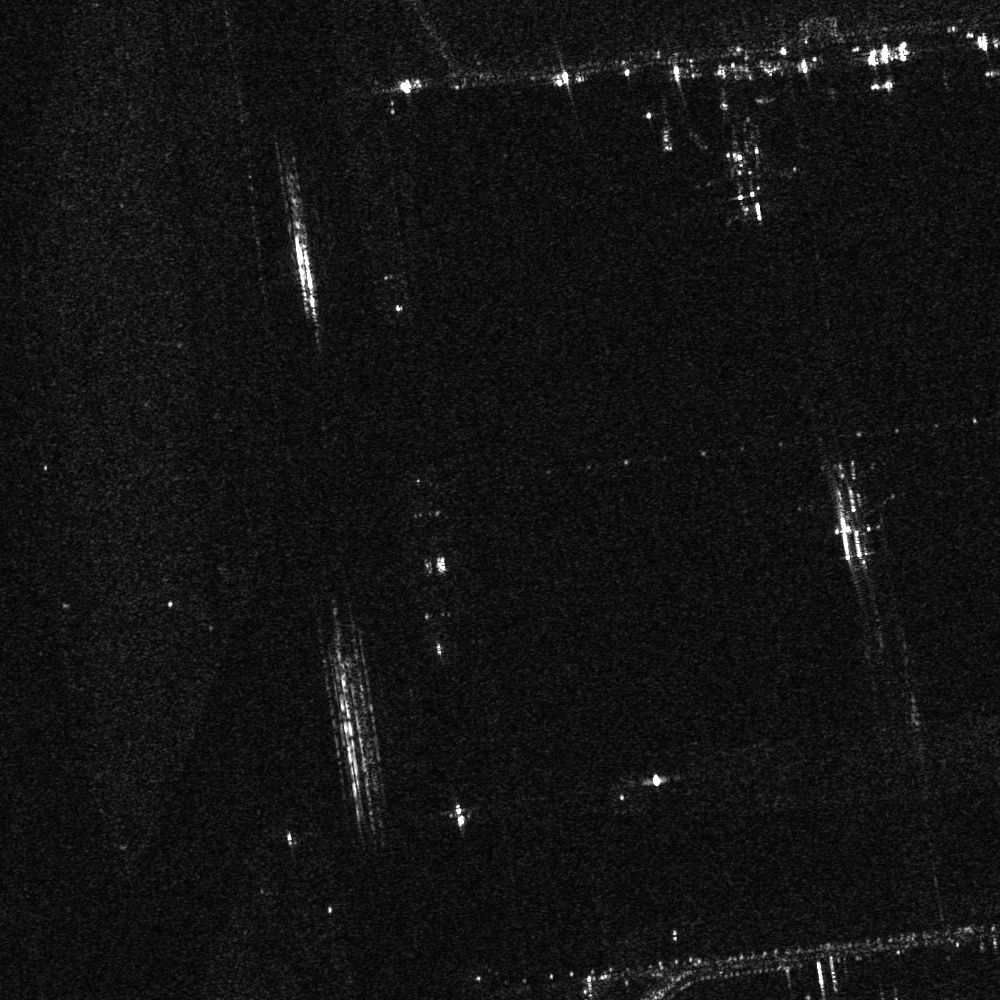A320/321: (691, 116, 799, 229)
